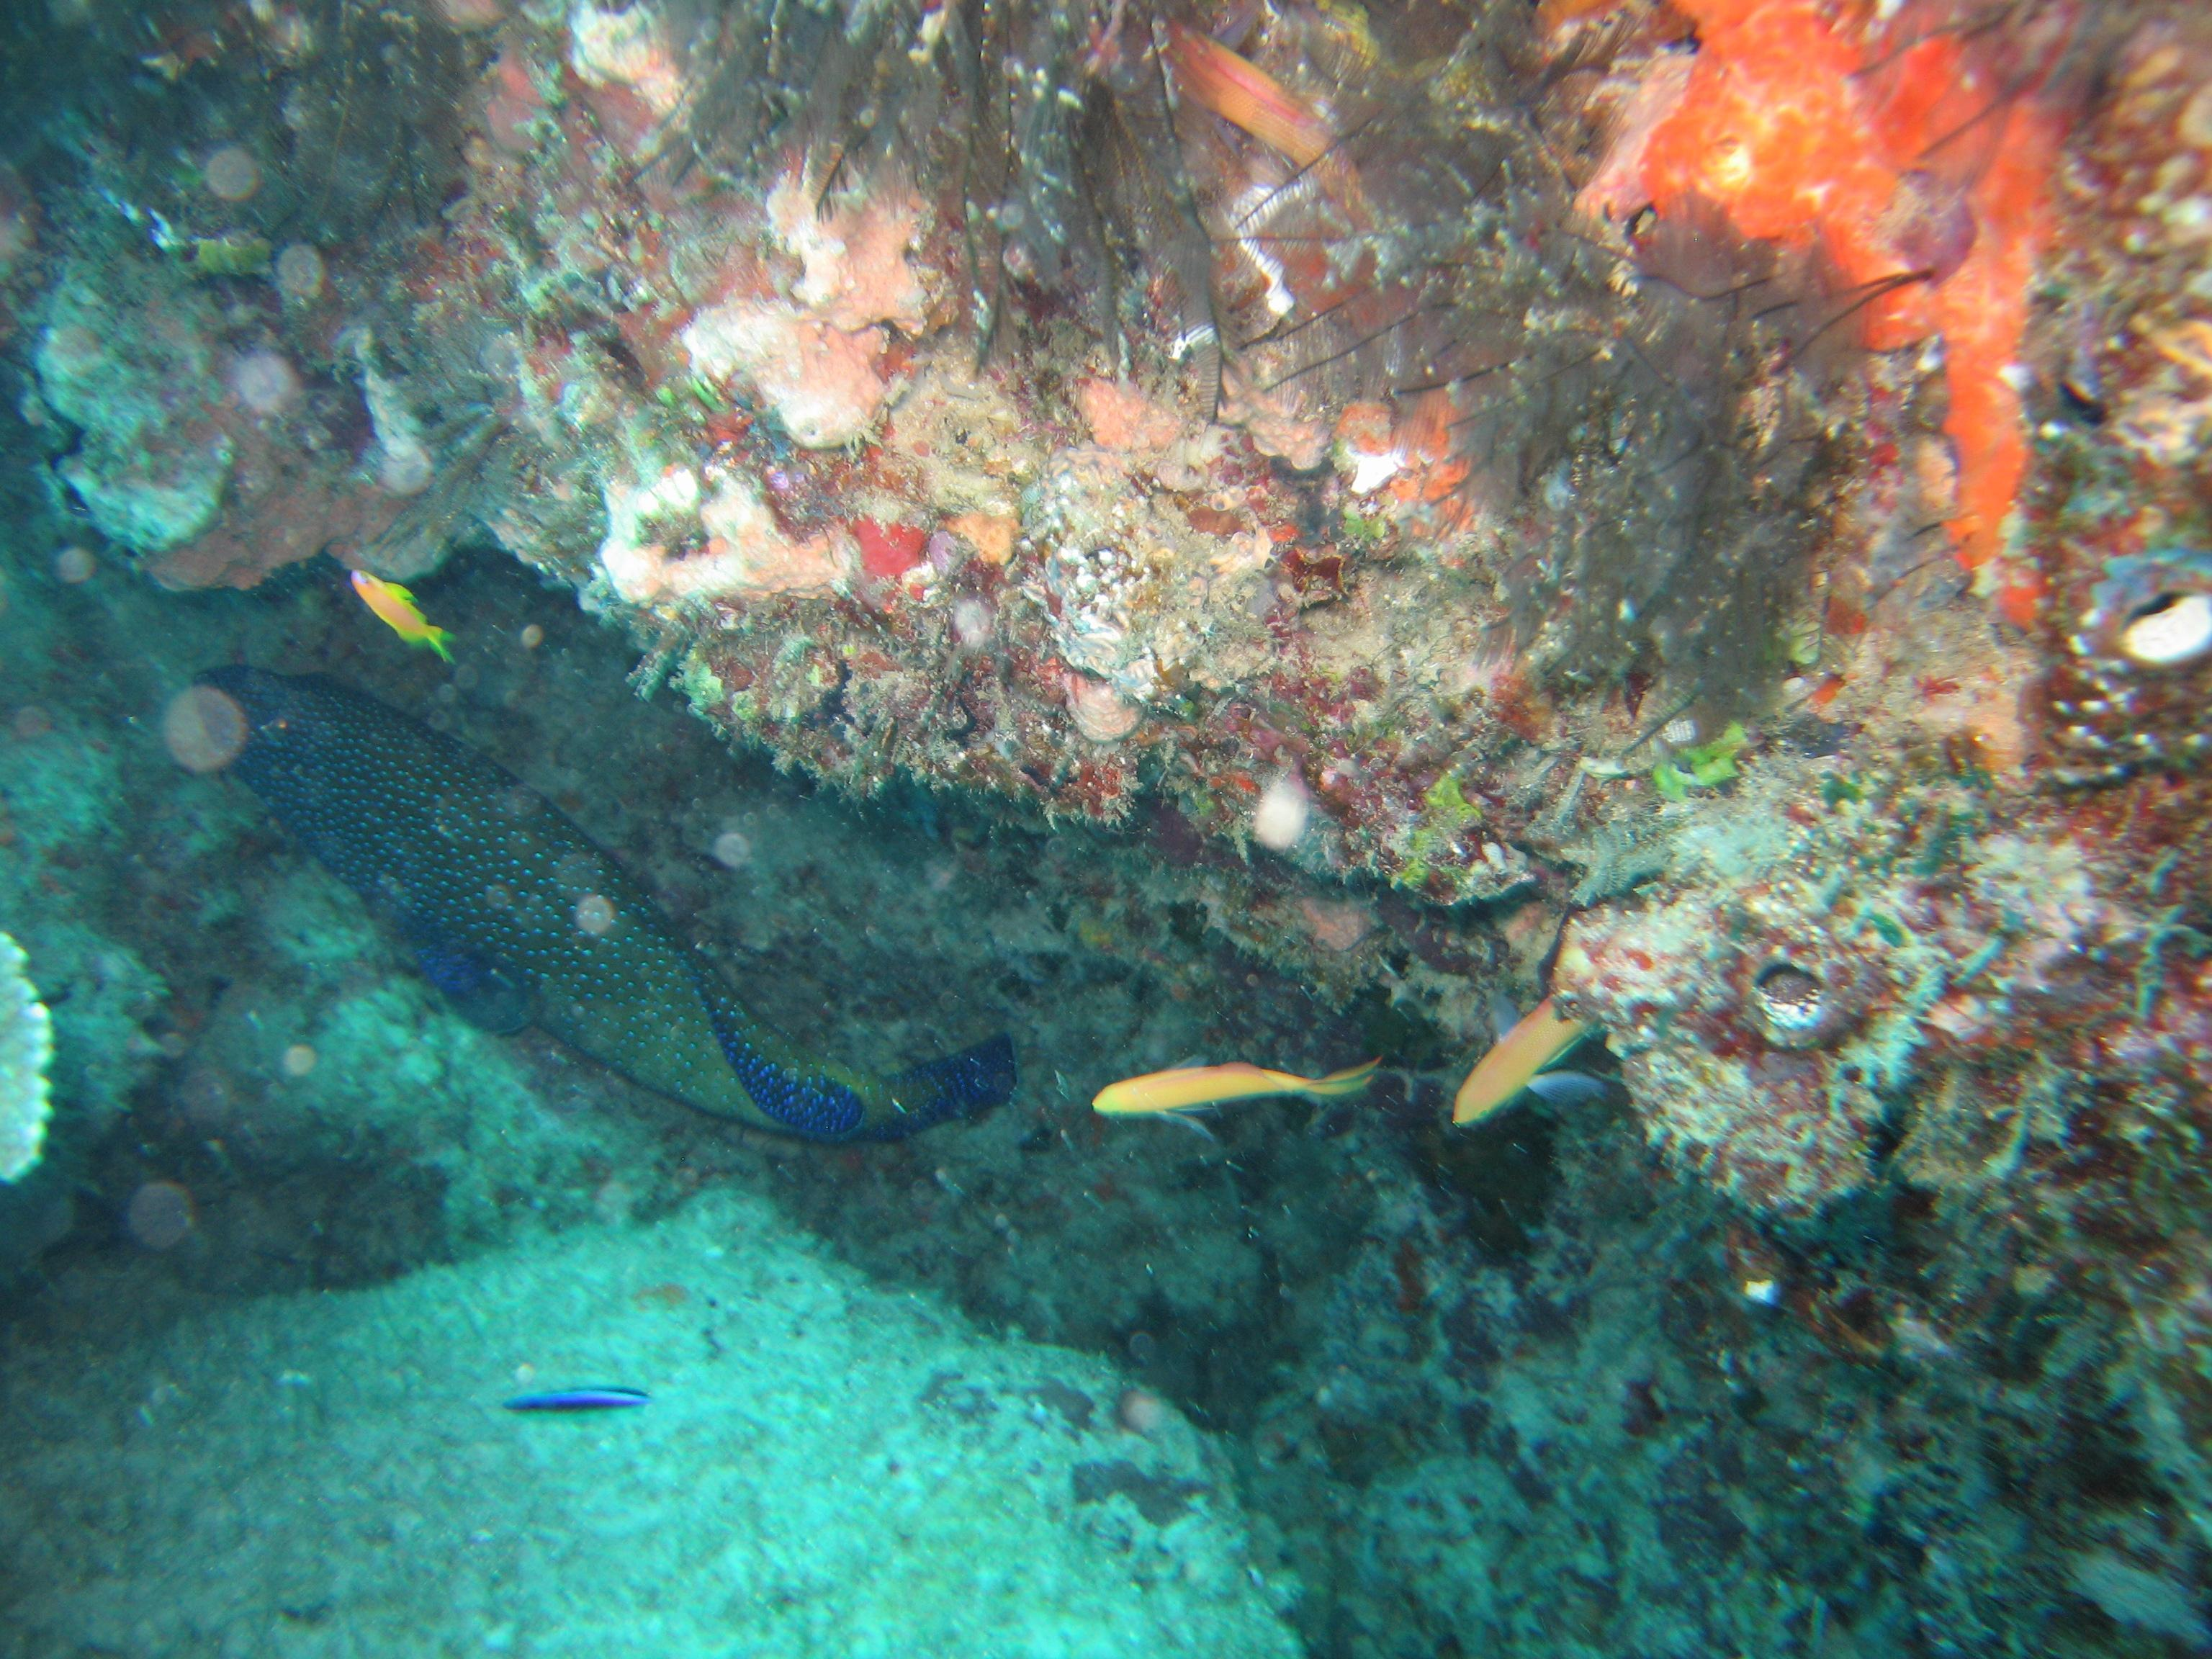Fish: (138, 673, 1040, 1215)
